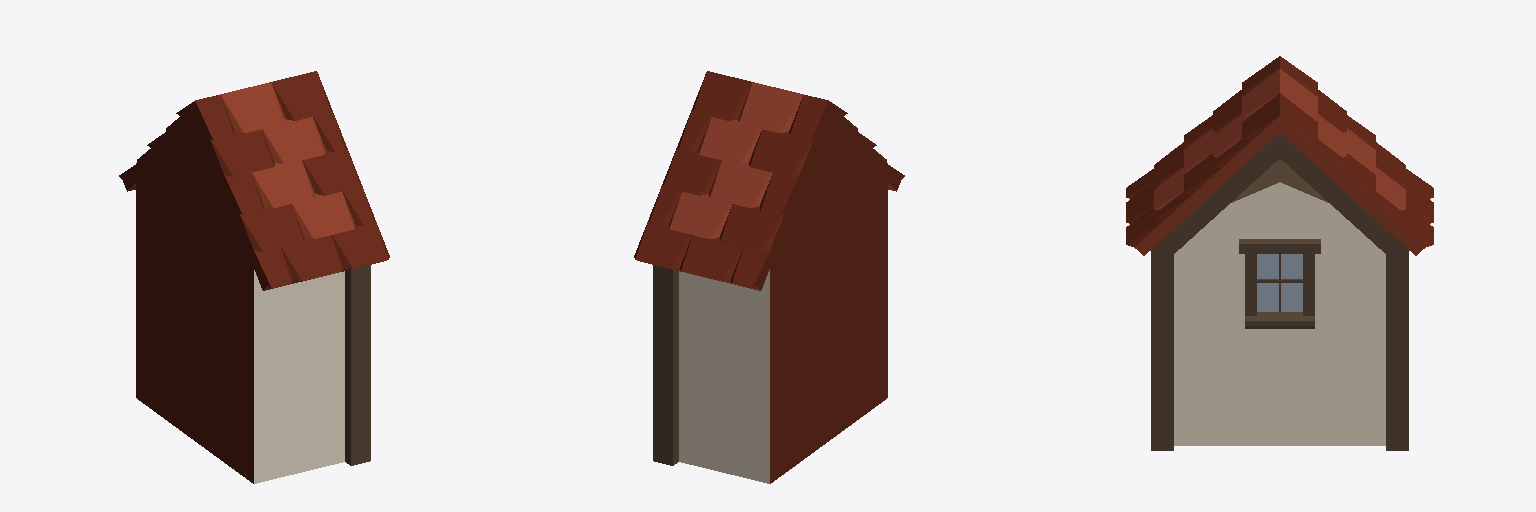
The model's file is Kit_Window_Upper_Straight.obj.
3 renders of one model, left to right at view 1: azimuth 30°, elevation 25°; view 2: azimuth 150°, elevation 25°; view 3: azimuth 270°, elevation 25°, orthographic.
Visible parts, largest first — view 1: object5, object3; view 2: object5, object3; view 3: object5, object3, object2, object1.
Boxes of the visible parts, x1,y1,x2,y2 form: object5: [119, 71, 389, 483]; object3: [345, 265, 370, 465]; object5: [634, 71, 904, 483]; object3: [653, 265, 678, 465]; object5: [1126, 56, 1433, 445]; object3: [1151, 134, 1408, 450]; object2: [1239, 239, 1320, 328]; object1: [1231, 159, 1328, 202].
Bounding box in the file's own units: 1.2 × 3.2 × 2.62.